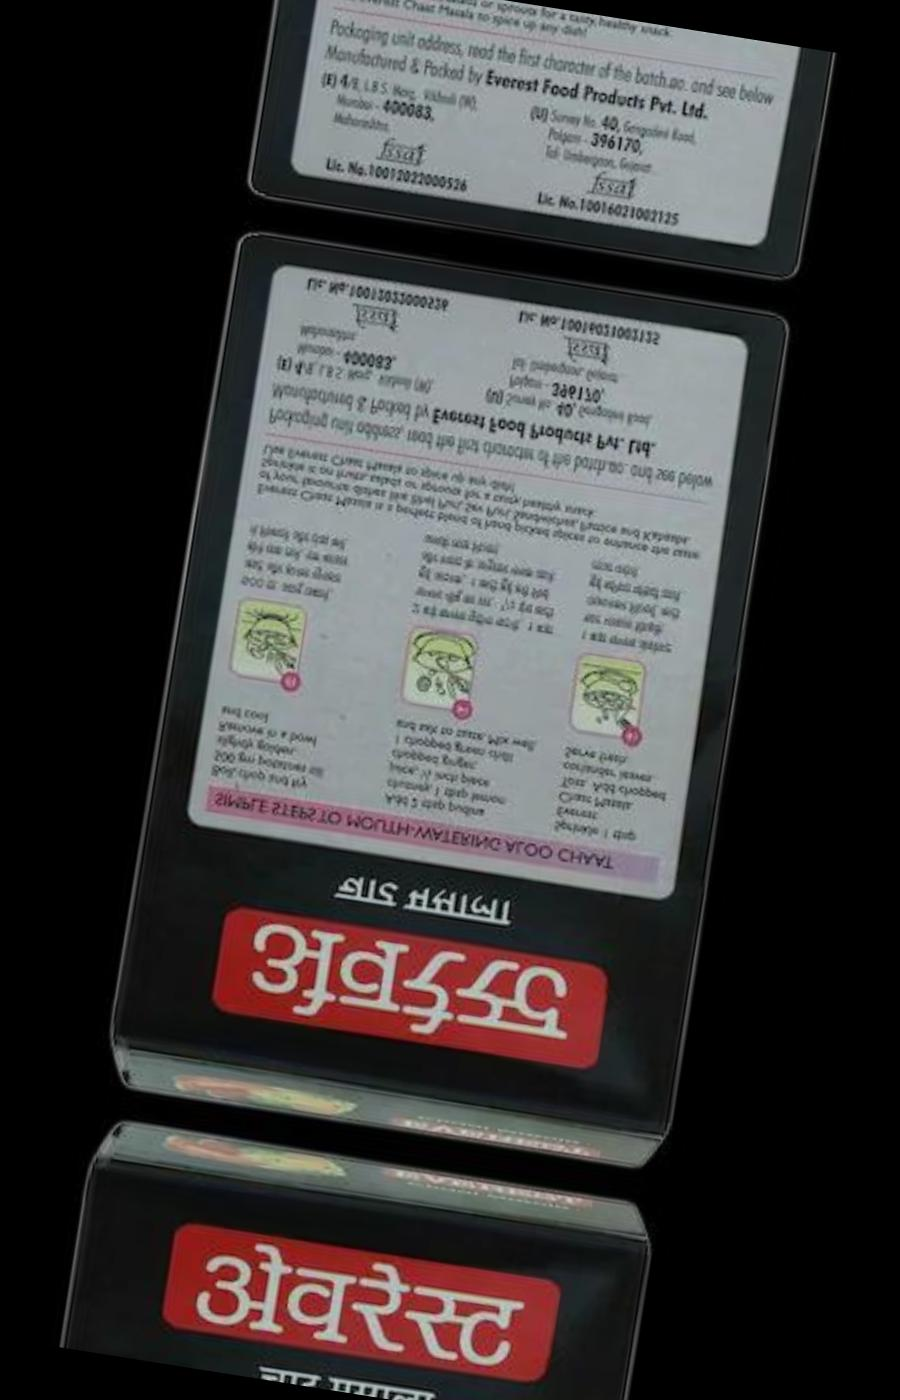Everest Chaat Masala 50 g: (89, 220, 802, 1183), (48, 1105, 662, 1400), (230, 0, 843, 289)
